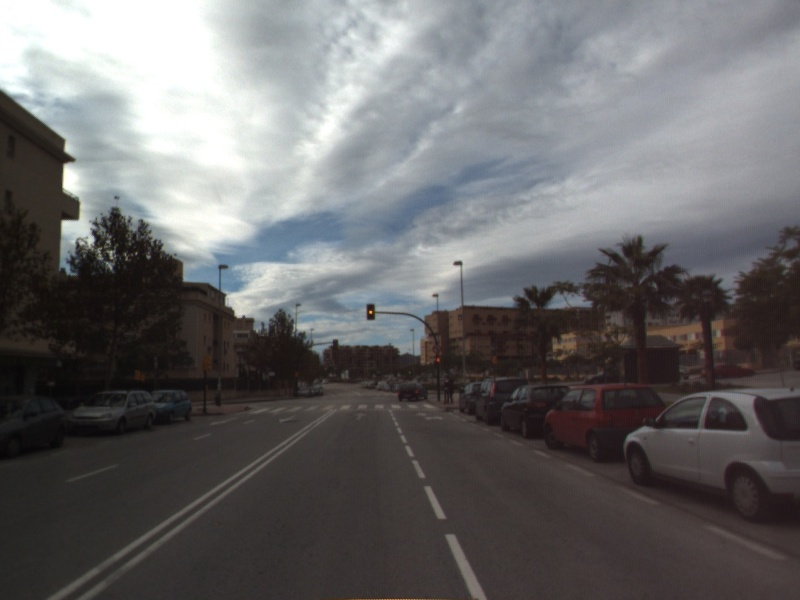STRAIGHT: (352, 411, 369, 422)
STRAIGHT_RIGHT: (414, 410, 446, 423)
